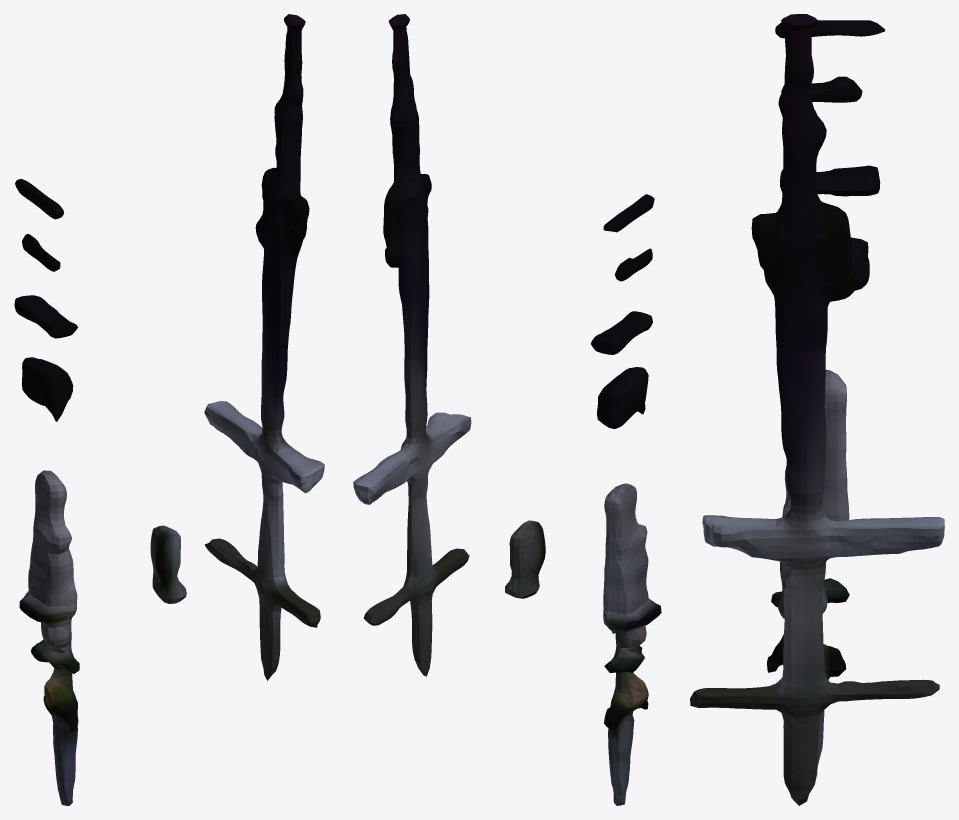
Rendered from Fantastic weapons for computer games_1749655799.obj.
3 views of the same model, side by side, from view 1: azimuth 30°, elevation 25°; view 2: azimuth 150°, elevation 25°; view 3: azimuth 270°, elevation 25° (orthographic). The views are drawn at different scales.
Bounding box in the file's own units: 0.7621 × 1.98 × 0.5073.
